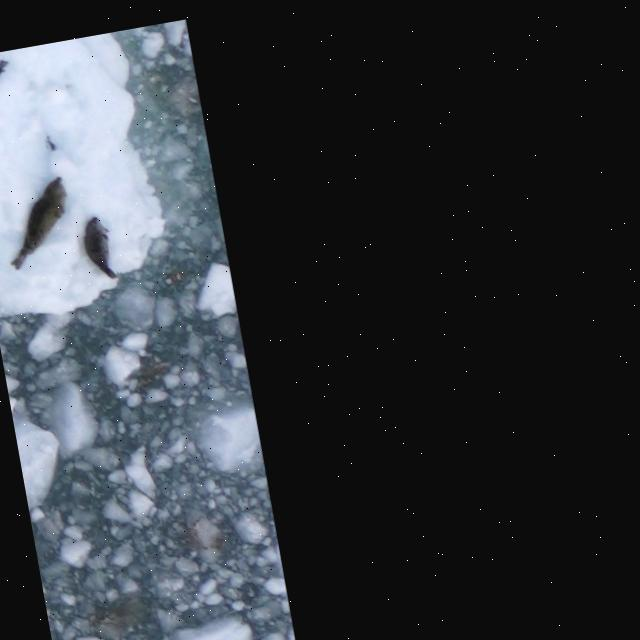seal: (0, 171, 79, 274), (76, 210, 121, 286), (0, 52, 16, 89)
